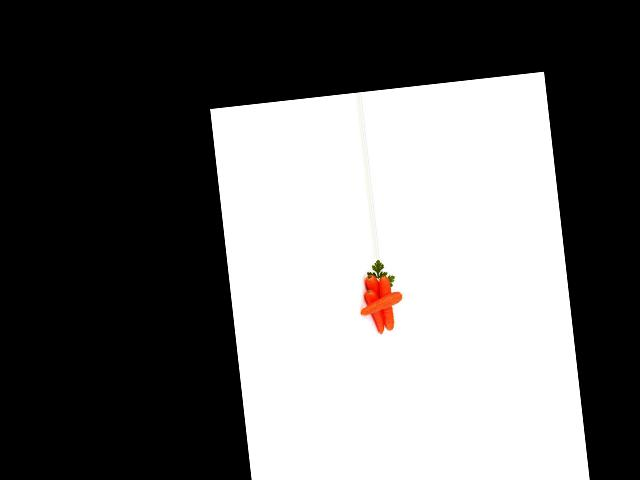carrot: (363, 274, 386, 327)
